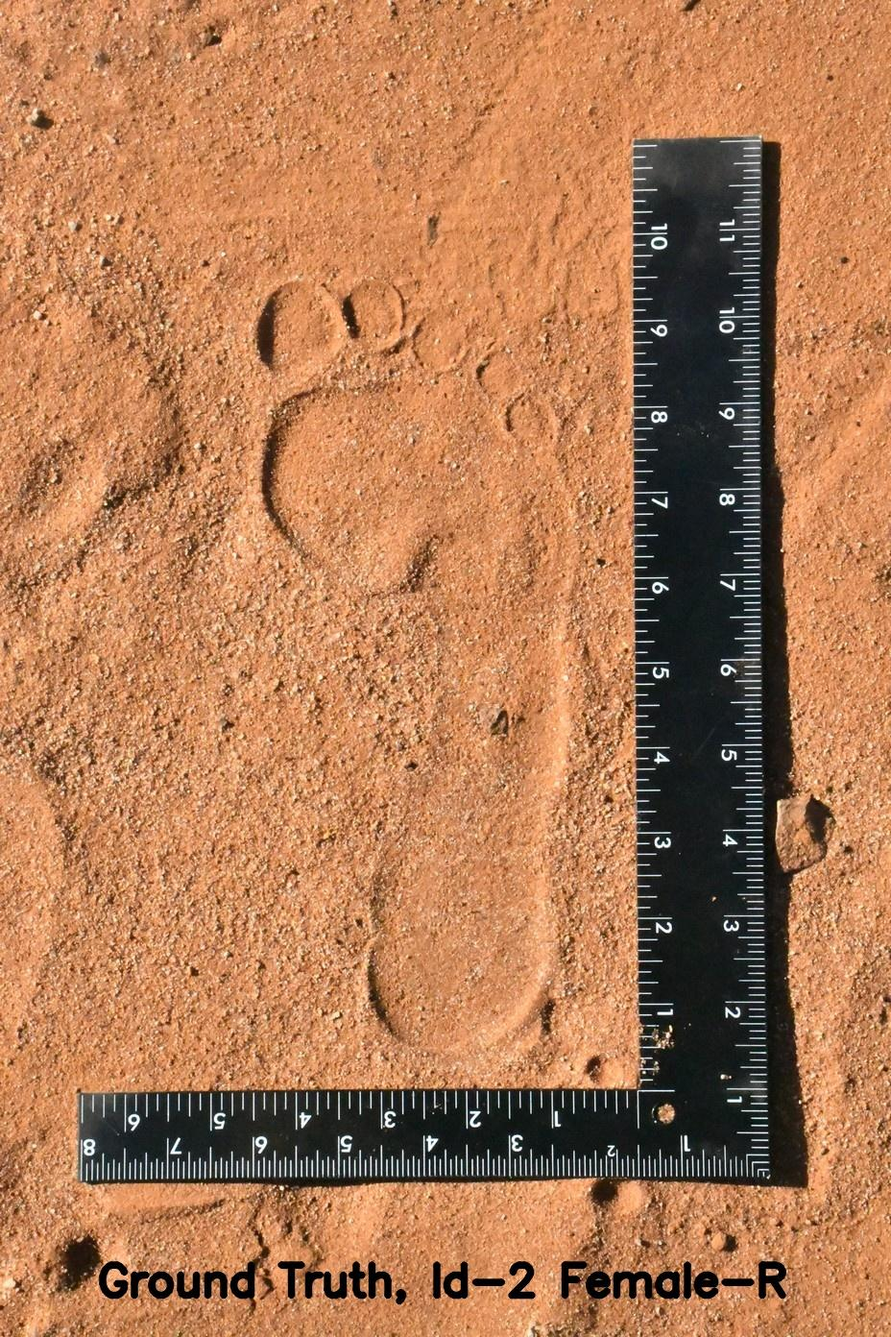human_foot_print: (228, 254, 615, 1059)
